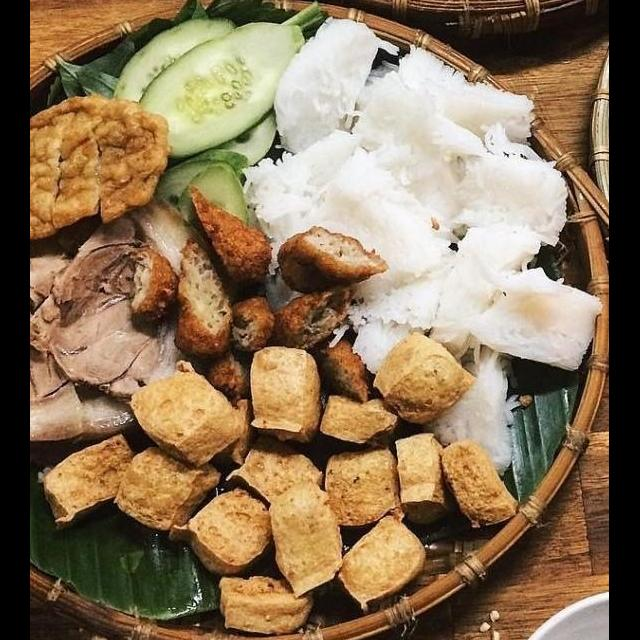bun: (232, 12, 610, 372), (418, 334, 524, 478)
bun dau: (44, 26, 609, 640)
cha com: (119, 183, 284, 361), (32, 87, 195, 247), (274, 222, 394, 301)
dau hu: (124, 356, 254, 474), (160, 473, 284, 580), (368, 326, 482, 435), (107, 440, 230, 539), (264, 470, 354, 603), (331, 508, 436, 615), (38, 430, 146, 530), (216, 430, 334, 519), (240, 336, 330, 451), (314, 445, 414, 536), (208, 565, 324, 640), (438, 436, 522, 534), (382, 427, 460, 524), (312, 390, 398, 451)
thit heo: (32, 191, 208, 455)
